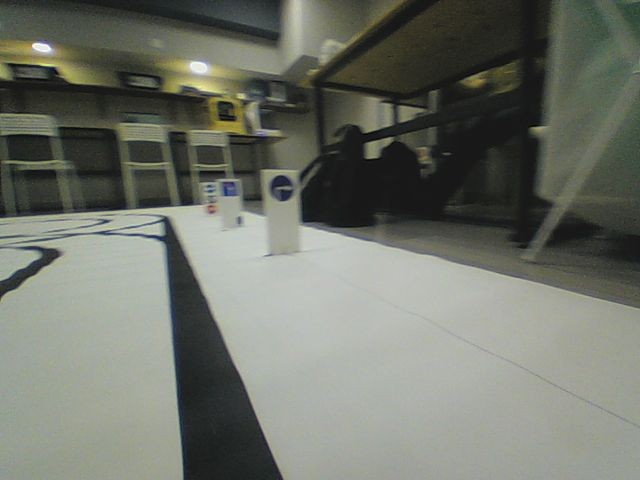Right: (268, 174, 294, 202)
